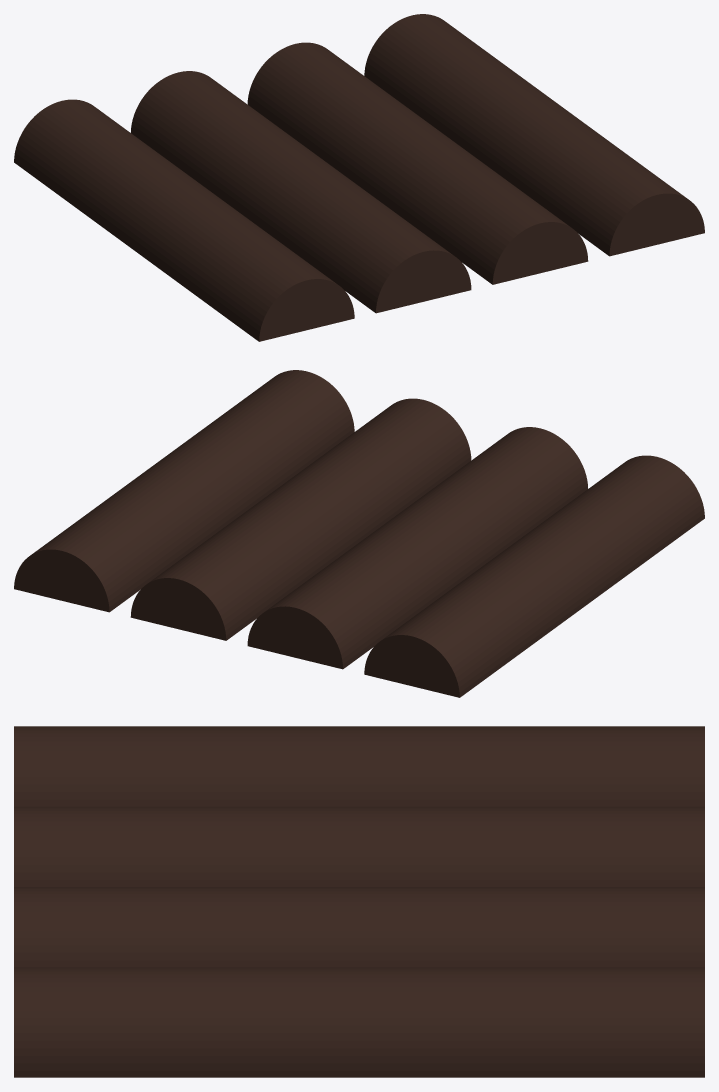
The model's file is Yut.fbx.
3 views of the same model, one above another, from view 1: azimuth 30°, elevation 25°; view 2: azimuth 150°, elevation 25°; view 3: azimuth 270°, elevation 25° (orthographic). The views are drawn at different scales.
Parts seen in each view (by area): view 1: Yut_1, Yut_4, Yut_3, Yut_2; view 2: Yut_1, Yut_4, Yut_3, Yut_2; view 3: Yut_4, Yut_1, Yut_2, Yut_3.
Part boxes in pixels (x1,y1,x2,y2): Yut_1: (14, 99, 354, 341); Yut_4: (364, 14, 704, 256); Yut_3: (247, 42, 588, 284); Yut_2: (131, 71, 471, 313); Yut_1: (364, 455, 704, 697); Yut_4: (14, 370, 354, 612); Yut_3: (130, 398, 471, 640); Yut_2: (247, 427, 587, 669); Yut_4: (14, 967, 704, 1077); Yut_1: (14, 726, 704, 806); Yut_2: (14, 806, 704, 886); Yut_3: (14, 887, 704, 967).
Size of the model in its own units: 420 by 45 by 400.
